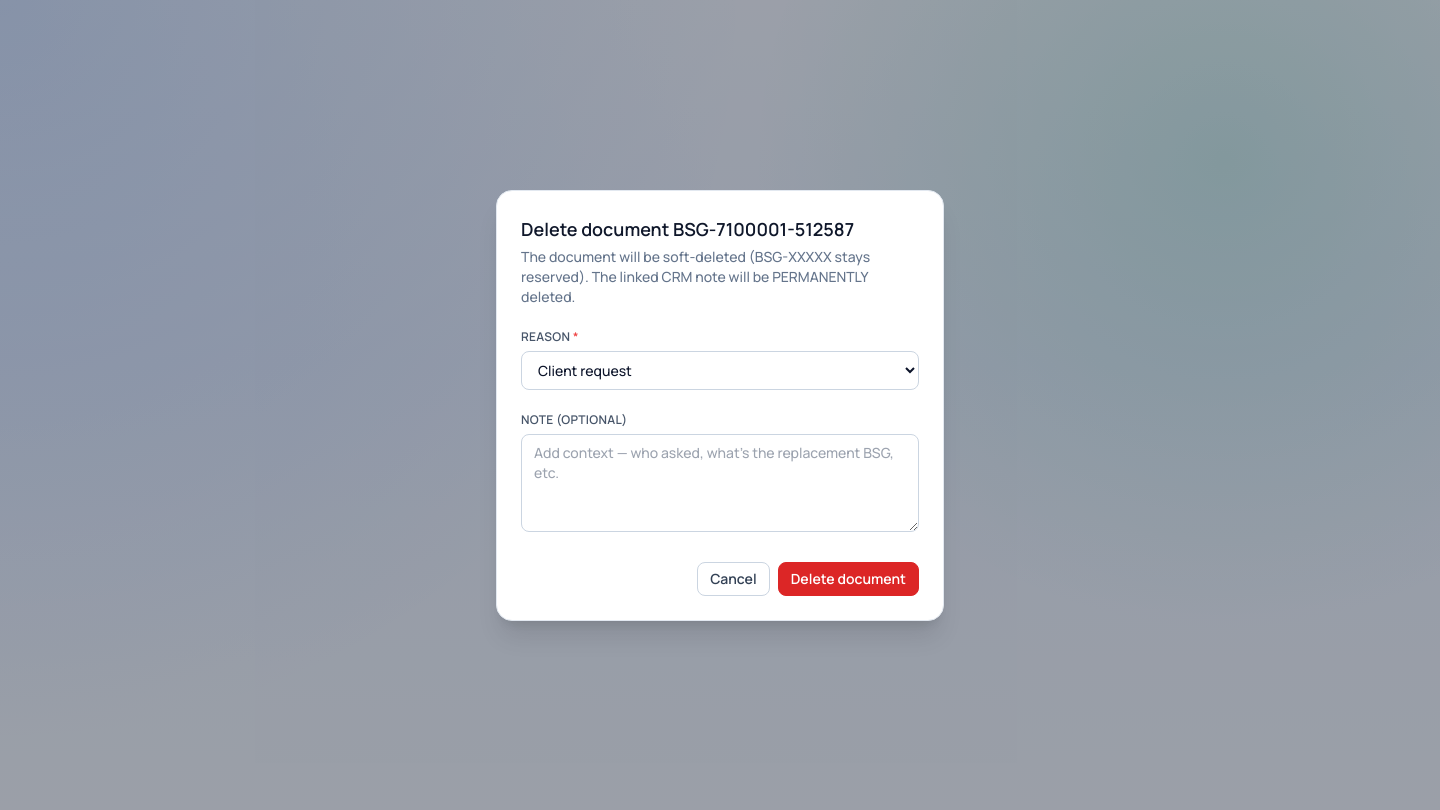
DeleteDocumentModal — submit flow › rejects 'other' reason without note (client-side guard)
Select "Other (note required)" in the dropdown labelled "Reason *" at (720, 370), box [521,350,919,390]
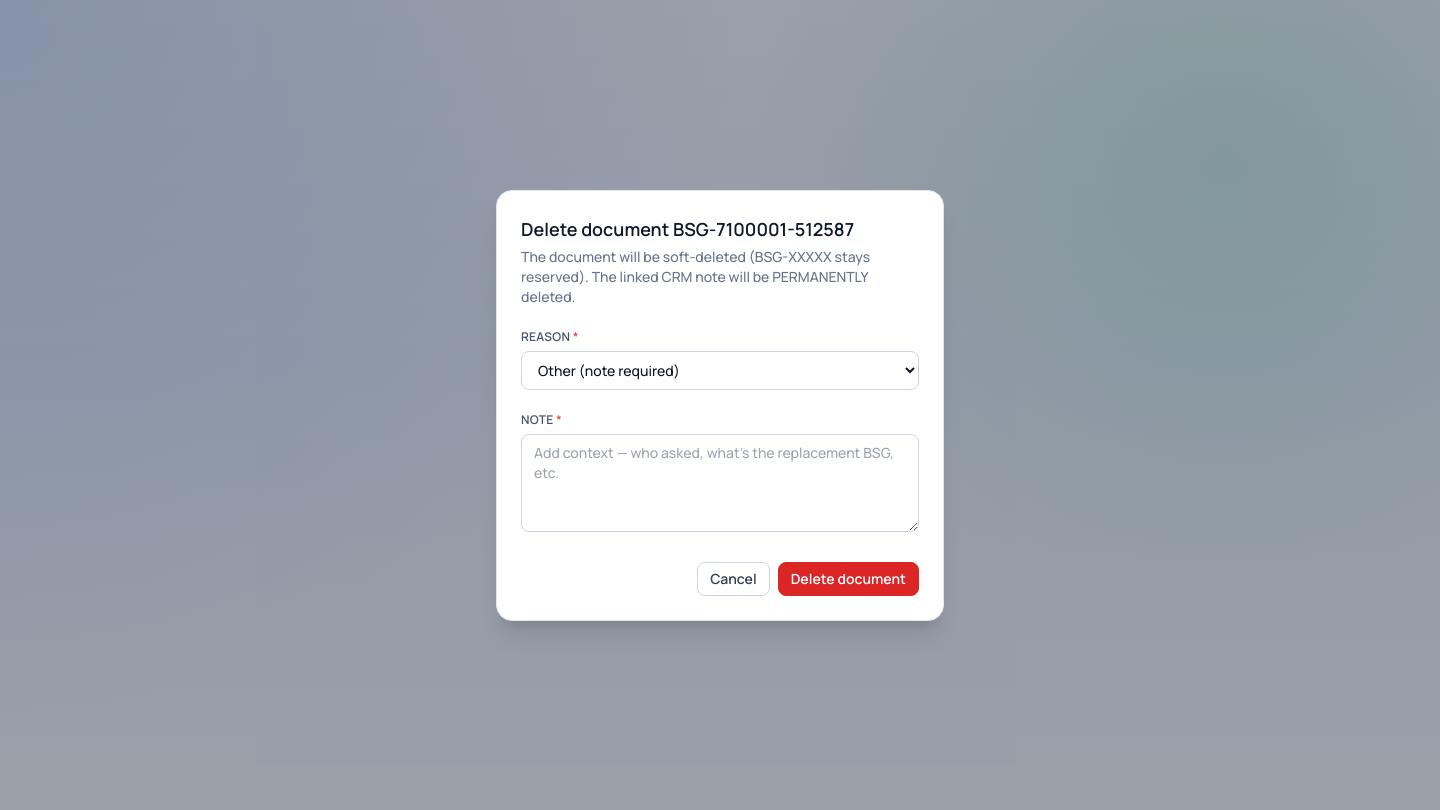
Click the button "Delete document" at (848, 578), box [778,562,919,596]
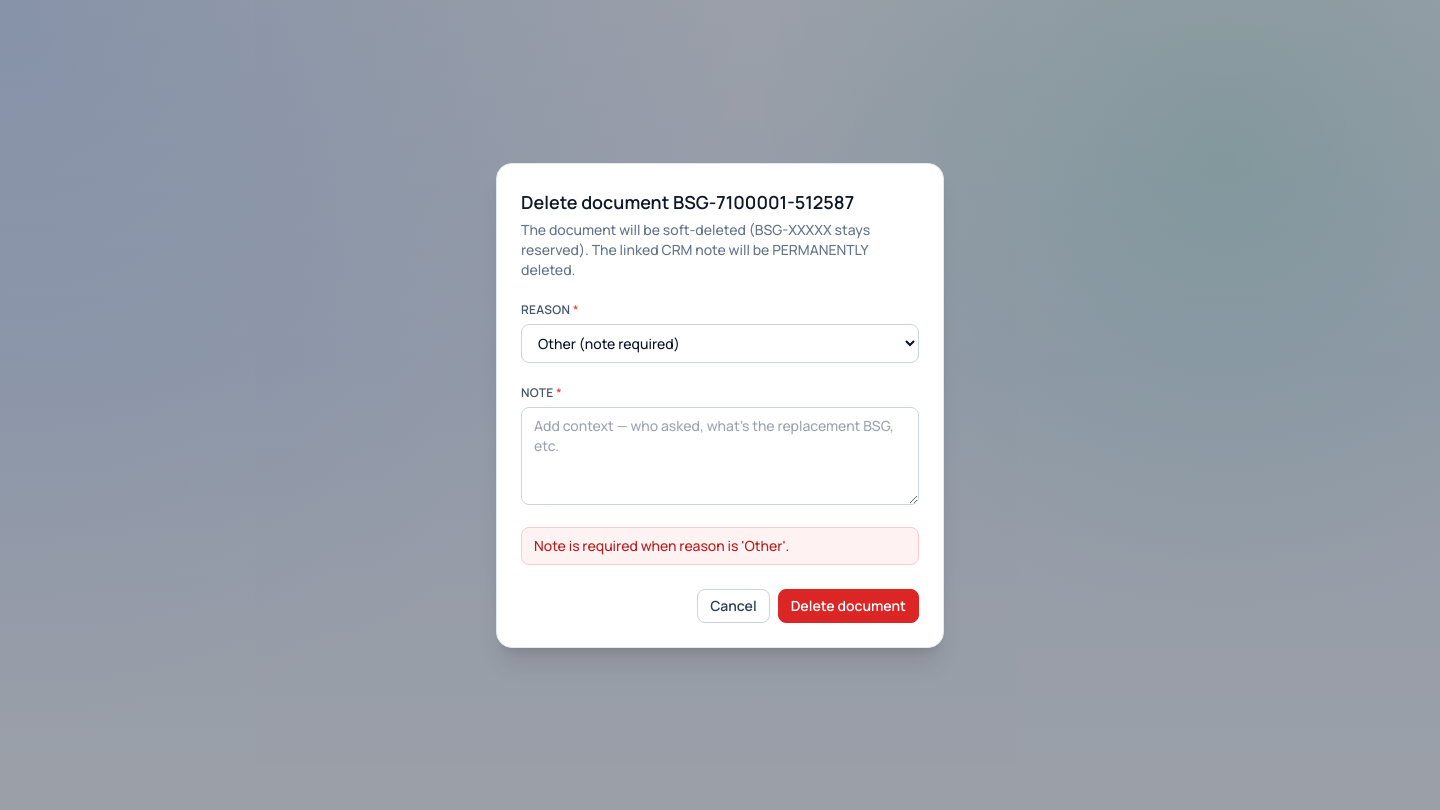
Expected: the text "Note is required when reason is 'Other'." is shown, [521,526,919,564]
